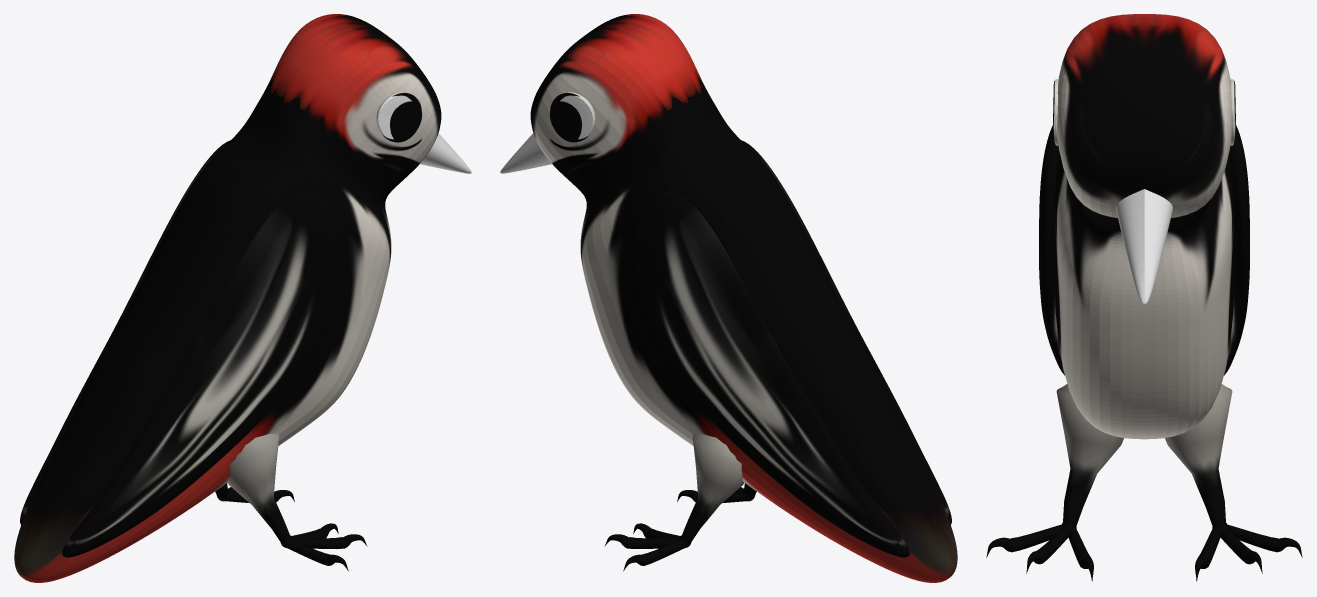
Rendered from Qizilishton.fbx.
3 views of the same model, side by side, from view 1: azimuth 30°, elevation 25°; view 2: azimuth 150°, elevation 25°; view 3: azimuth 270°, elevation 25° (orthographic). The views are drawn at different scales.
Parts seen in each view (by area): view 1: Plane, Plane.001, BezierCurve, Circle, Plane.002; view 2: Plane, Plane.001, BezierCurve, Circle, Plane.002; view 3: Plane, BezierCurve, Plane.001, Plane.002, Circle.
Part boxes in pixels (x1,y1,x2,y2): Plane: (14, 14, 441, 582); Plane.001: (20, 140, 343, 557); BezierCurve: (215, 434, 367, 571); Circle: (376, 92, 422, 142); Plane.002: (420, 133, 471, 173); Plane: (530, 14, 957, 582); Plane.001: (628, 140, 951, 557); BezierCurve: (604, 434, 756, 571); Circle: (549, 92, 595, 142); Plane.002: (500, 133, 551, 173); Plane: (1054, 14, 1234, 439); BezierCurve: (986, 384, 1302, 581); Plane.001: (1039, 126, 1249, 375); Plane.002: (1116, 189, 1172, 304); Circle: (1052, 79, 1236, 145).
Size of the model in its own units: 153 by 156 by 77.44.
5 materials, 4 textured.
